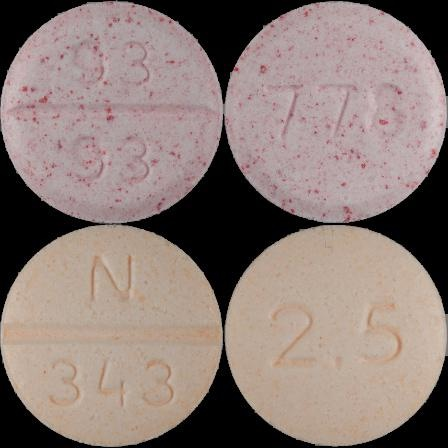51079-870: (0, 0, 224, 224)
